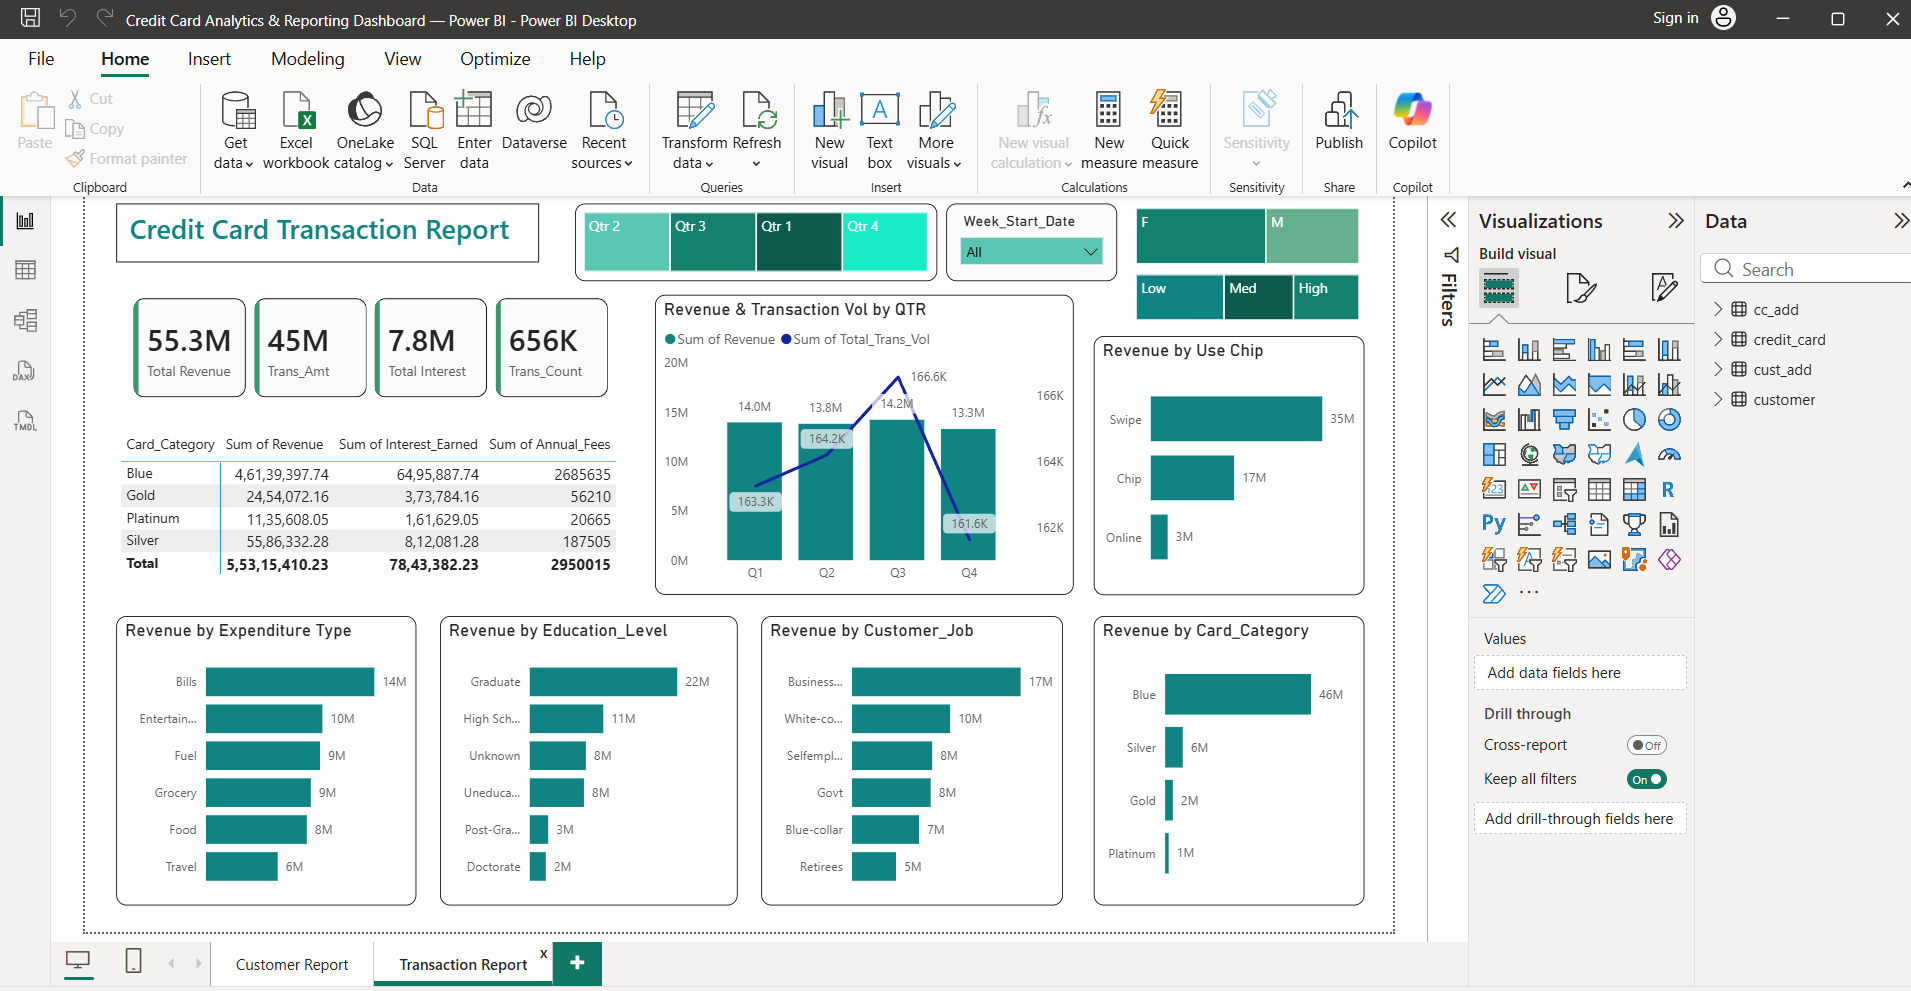

What the dashboard file says about the page in this screenshot:
{"tool":"powerbi","page":{"name":"Transaction Report","canvas":[1280,720],"ordinal":1},"visuals":[{"type":"cardVisual","fields":{"Data":["Sum(credit_card.Revenue)","Sum(credit_card.Total_Trans_Amt)","Sum(credit_card.Interest_Earned)","Sum(credit_card.Total_Trans_Vol)1"]},"box":[30.2,83.2,501.5,131],"z":0},{"type":"treemap","fields":{"Group":["credit_card.Week_Start_Date.Variation.Date Hierarchy.Quarter"],"Values":["CountNonNull(credit_card.Client_Num)"]},"box":[478.8,7.6,354.1,75.6],"z":1000},{"type":"pivotTable","fields":{"Rows":["credit_card.Card_Category"],"Values":["Sum(credit_card.Revenue)","Sum(credit_card.Interest_Earned)","Sum(credit_card.Annual_Fees)"]},"box":[30.2,226.8,501.5,163.8],"z":2000},{"type":"barChart","title":"Revenue by Expenditure Type","fields":{"Y":["Sum(credit_card.Revenue)"],"Category":["credit_card.Exp Type"]},"box":[30.2,410.8,293.6,283.5],"z":3000},{"type":"barChart","title":"Revenue by Use Chip","fields":{"Y":["Sum(credit_card.Revenue)"],"Category":["credit_card.Use Chip"]},"box":[986.7,137.4,264.6,253.3],"z":4000},{"type":"barChart","title":"Revenue by Education_Level","fields":{"Y":["Sum(credit_card.Revenue)"],"Category":["customer.Education_Level"]},"box":[346.9,410.8,291.1,283.5],"z":5000},{"type":"lineStackedColumnComboChart","title":"Revenue & Transaction Vol by QTR","fields":{"Category":["credit_card.Qtr"],"Y":["Sum(credit_card.Revenue)"],"Y2":["Sum(credit_card.Total_Trans_Vol)"]},"box":[558.2,97,409.5,293.6],"z":6000},{"type":"barChart","title":"Revenue by Customer_Job","fields":{"Y":["Sum(credit_card.Revenue)"],"Category":["customer.Customer_Job"]},"box":[661.5,410.8,294.9,283.5],"z":7000},{"type":"slicer","fields":{"Values":["credit_card.Week_Start_Date"]},"box":[843,7.6,167.6,75.6],"z":8000},{"type":"barChart","title":"Revenue by Card_Category","fields":{"Y":["Sum(credit_card.Revenue)"],"Category":["credit_card.Card_Category"]},"box":[986.7,410.8,264.6,283.5],"z":9000},{"type":"textbox","box":[30.2,7.6,413.3,58],"z":10000},{"type":"treemap","fields":{"Values":["CountNonNull(credit_card.Client_Num)"],"Group":["customer.Gender"]},"box":[1023.2,7.6,228.1,64.3],"z":11000},{"type":"treemap","fields":{"Values":["CountNonNull(credit_card.Client_Num)"],"Group":["customer.IncomeGroup"]},"box":[1023.2,71.8,228.1,54.2],"z":13000}]}

Visuals, with their boxes on the page's 1280x720 design canvas (x1, y1, x2, y2). These are canvas units, not pixel positions in the 1911x991 screenshot, which may show the page scaled, cropped or inside an application window:
cardVisual - Sum(credit_card.Revenue) x Sum(credit_card.Total_Trans_Amt): (30,83,532,214)
treemap - credit_card.Week_Start_Date.Variation.Date Hierarchy.Quarter x CountNonNull(credit_card.Client_Num): (479,8,833,83)
pivotTable - credit_card.Card_Category x Sum(credit_card.Revenue): (30,227,532,391)
"Revenue by Expenditure Type" barChart: (30,411,324,694)
"Revenue by Use Chip" barChart: (987,137,1251,391)
"Revenue by Education_Level" barChart: (347,411,638,694)
"Revenue & Transaction Vol by QTR" lineStackedColumnComboChart: (558,97,968,391)
"Revenue by Customer_Job" barChart: (662,411,956,694)
slicer - credit_card.Week_Start_Date: (843,8,1011,83)
"Revenue by Card_Category" barChart: (987,411,1251,694)
textbox: (30,8,444,66)
treemap - CountNonNull(credit_card.Client_Num) x customer.Gender: (1023,8,1251,72)
treemap - CountNonNull(credit_card.Client_Num) x customer.IncomeGroup: (1023,72,1251,126)
